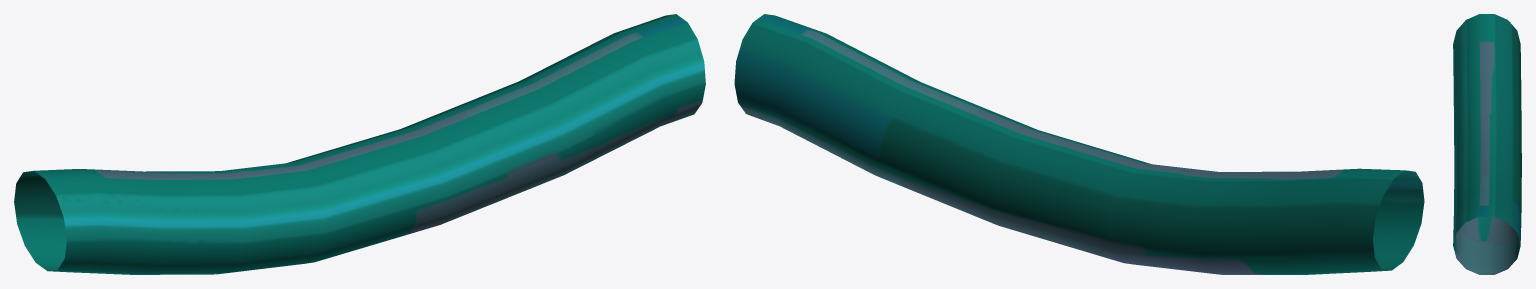
The model's file is SM_Wire_Mid_Short.fbx.
The picture shows the model from 3 angles, left to right: view 1: azimuth 30°, elevation 25°; view 2: azimuth 150°, elevation 25°; view 3: azimuth 270°, elevation 25°; orthographic projection. The views are drawn at different scales.
Parts seen in each view (by area): view 1: Sm_Wire_Mid_Short; view 2: Sm_Wire_Mid_Short; view 3: Sm_Wire_Mid_Short.
Boxes of the visible parts, <box> form: Sm_Wire_Mid_Short: <box>14,14,705,274</box>; Sm_Wire_Mid_Short: <box>734,14,1424,274</box>; Sm_Wire_Mid_Short: <box>1453,14,1521,274</box>.
Bounding box in the file's own units: 1.28 × 0.8341 × 5.82.
1 material, 1 textured.
